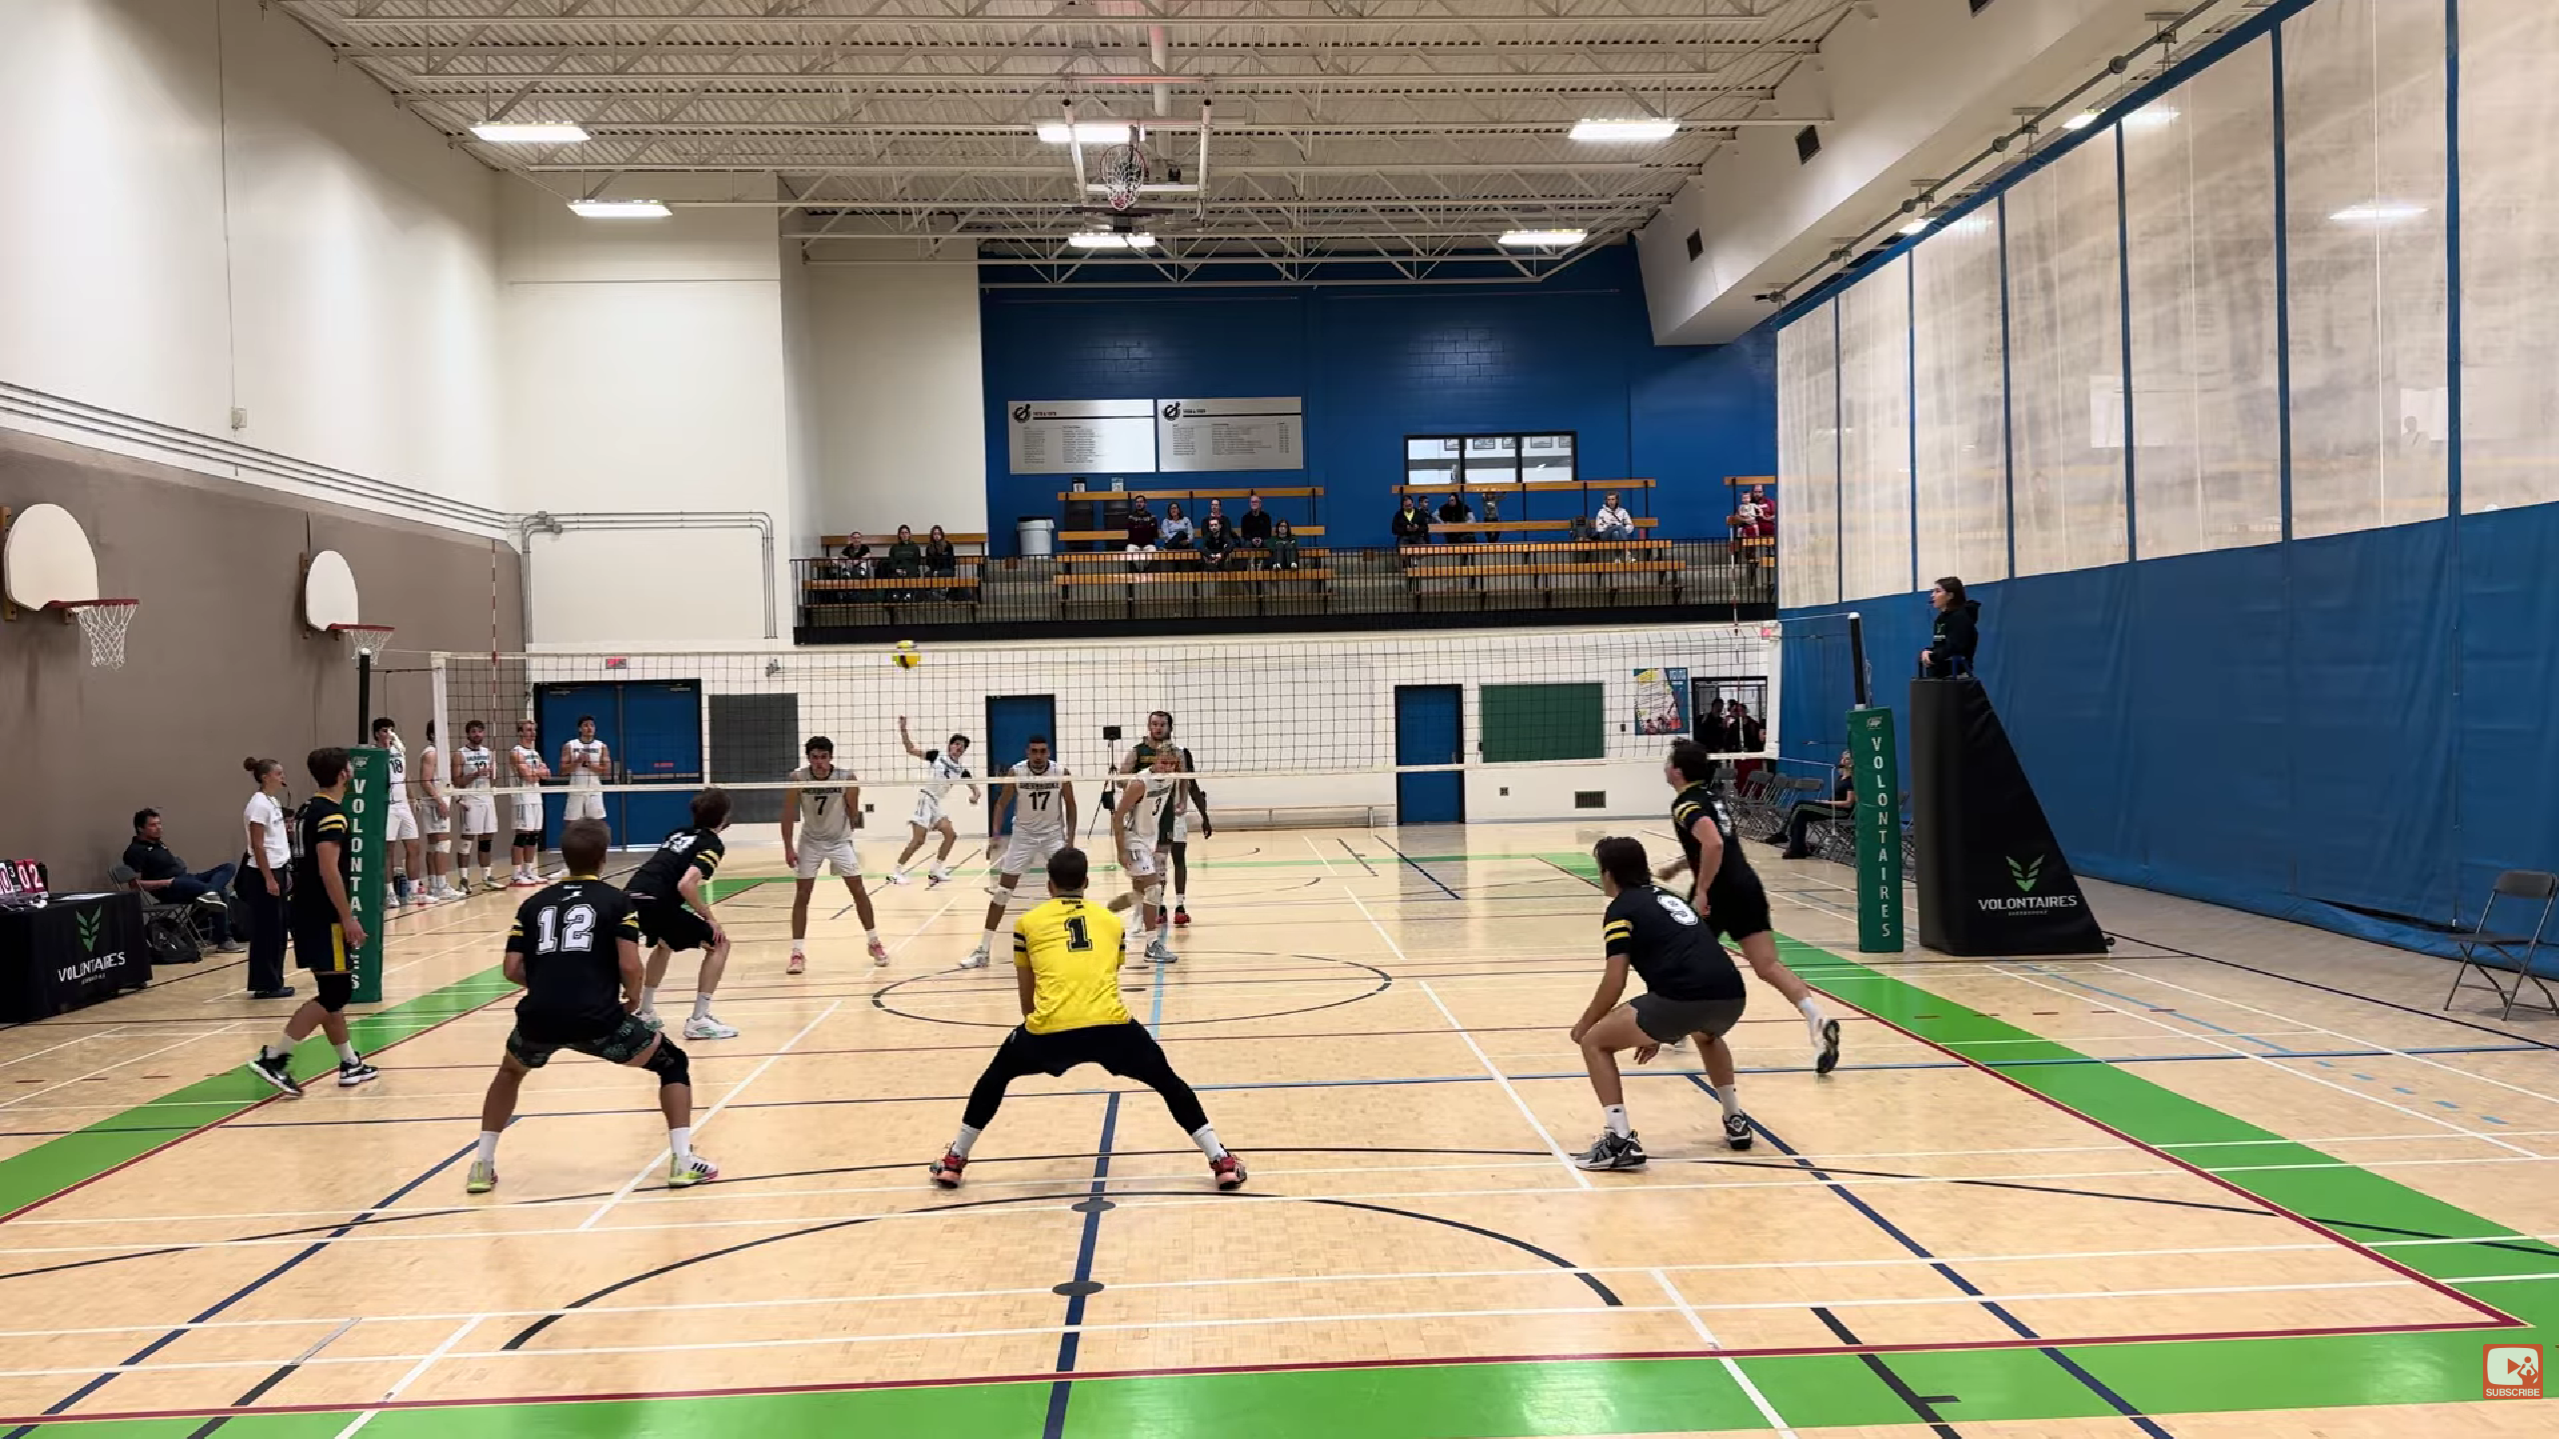Ball: (891, 638, 921, 669)
